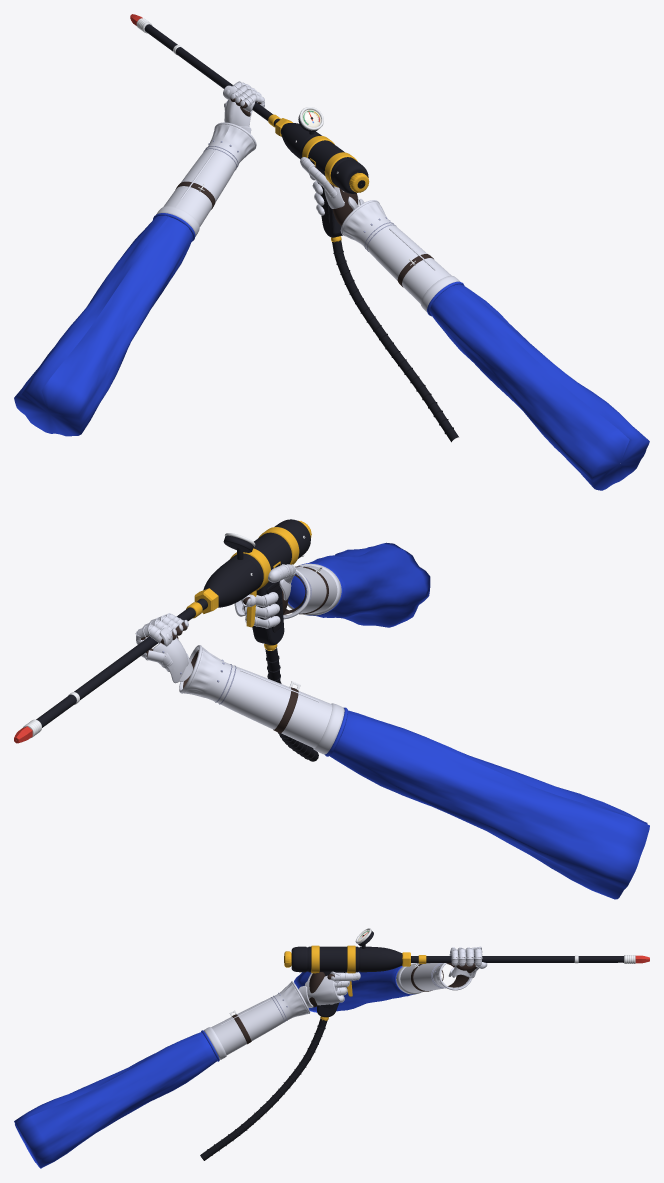
The model's file is wash-knight-fp-rig.glb.
3 views of the same model, one above another, from view 1: azimuth 30°, elevation 25°; view 2: azimuth 150°, elevation 25°; view 3: azimuth 270°, elevation 25° (orthographic). The views are drawn at different scales.
Parts seen in each view (by area): view 1: static_cloth, static_armor, static_black, static_rubber, static_yellow, static_leather; view 2: static_cloth, static_armor, static_black, static_yellow, static_rubber, static_leather; view 3: static_cloth, static_armor, static_black, static_rubber, static_leather, static_yellow.
Boxes of the visible parts, bbox=[...] form: static_cloth: bbox=[14, 213, 649, 490]; static_armor: bbox=[156, 81, 460, 312]; static_black: bbox=[144, 24, 368, 237]; static_rubber: bbox=[317, 182, 458, 442]; static_yellow: bbox=[268, 114, 369, 242]; static_leather: bbox=[175, 97, 433, 287]; static_cloth: bbox=[288, 542, 649, 899]; static_armor: bbox=[135, 563, 344, 754]; static_black: bbox=[36, 519, 310, 727]; static_yellow: bbox=[186, 520, 311, 650]; static_rubber: bbox=[265, 581, 318, 761]; static_leather: bbox=[141, 566, 328, 733]; static_cloth: bbox=[14, 966, 415, 1168]; static_armor: bbox=[203, 946, 487, 1059]; static_black: bbox=[291, 930, 623, 1017]; static_rubber: bbox=[200, 1004, 334, 1160]; static_leather: bbox=[232, 950, 480, 1044]; static_yellow: bbox=[284, 945, 426, 1020].
Size of the model in its own units: 1.03 by 0.6047 by 1.62.
16 materials, 1 textured.
